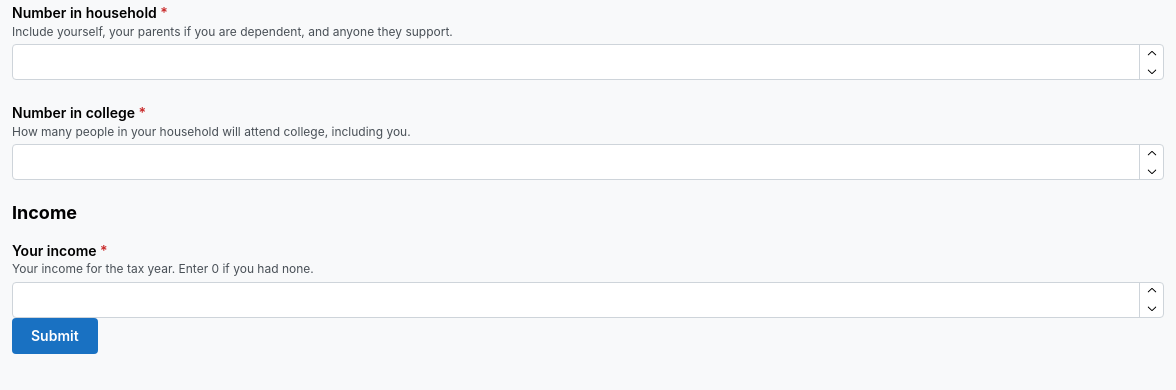
Test: HouseholdFinanceStep › enforces the household rule against the numbers the user entered
Type "2" into the field labelled "Number in household *" at (588, 62), box [12,44,1164,80]
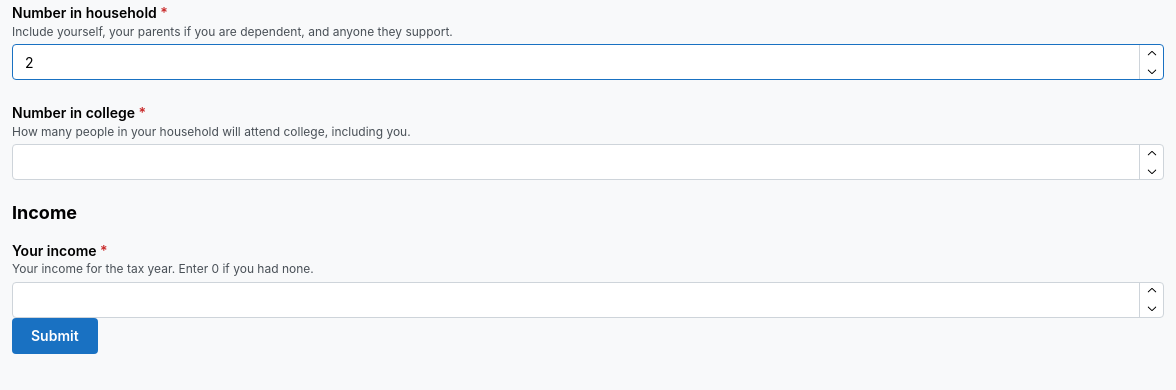
Type "5" into the field labelled "Number in college *" at (588, 162), box [12,144,1164,180]
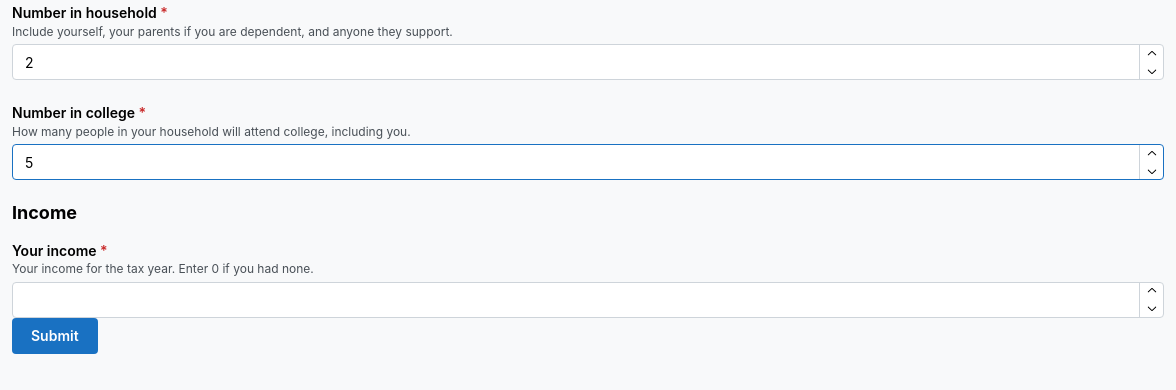
Press Tab
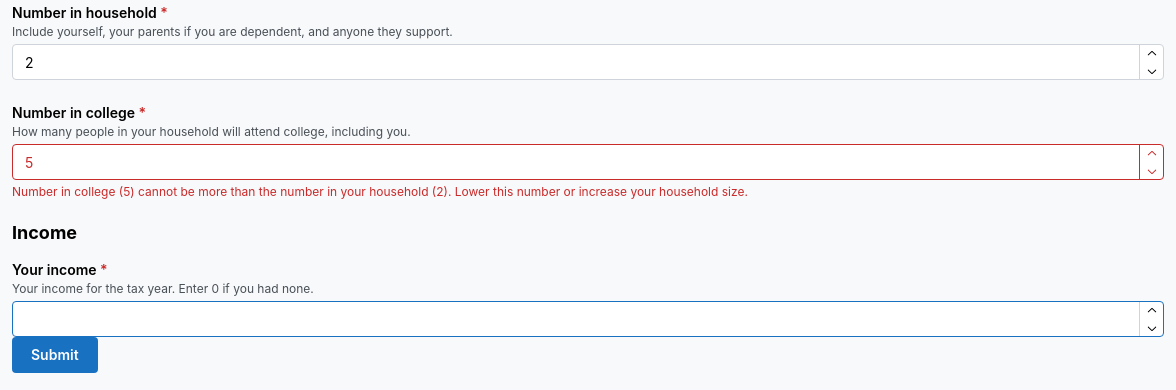
Now the text "Number in college (5)" shows "household (2)", box [12,184,748,199]
